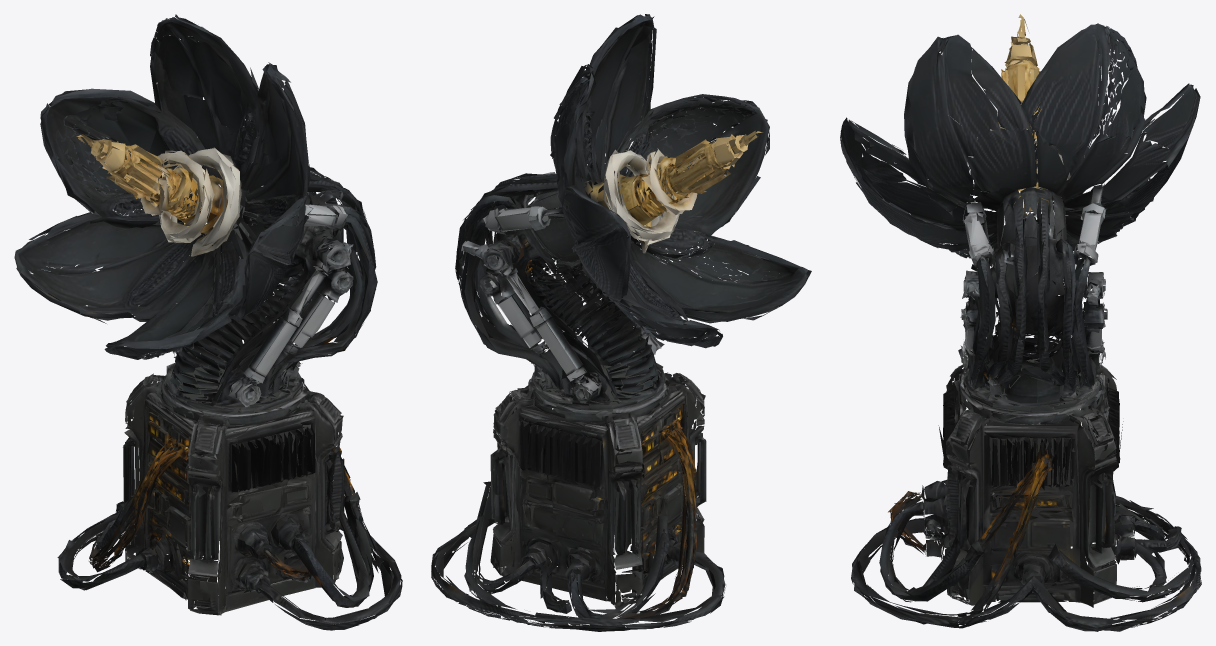
The model's file is ship_module_comms_transceiver.glb.
3 renders of one model, left to right at view 1: azimuth 30°, elevation 25°; view 2: azimuth 150°, elevation 25°; view 3: azimuth 270°, elevation 25°, orthographic. The views are drawn at different scales.
Visible parts, largest first — view 1: HB_ROTOR_00, HB_BODY; view 2: HB_BODY, HB_ROTOR_00; view 3: HB_ROTOR_00, HB_BODY.
Part boxes in pixels (x1=…): HB_ROTOR_00: x1=14, y1=14, x2=377, y2=359; HB_BODY: x1=54, y1=260, x2=402, y2=630; HB_BODY: x1=431, y1=259, x2=780, y2=631; HB_ROTOR_00: x1=455, y1=14, x2=811, y2=348; HB_ROTOR_00: x1=840, y1=14, x2=1200, y2=365; HB_BODY: x1=851, y1=233, x2=1201, y2=631.
Size of the model in its own units: 0.5941 by 1.01 by 0.614.
Materials: 1 (1 with a texture image).
